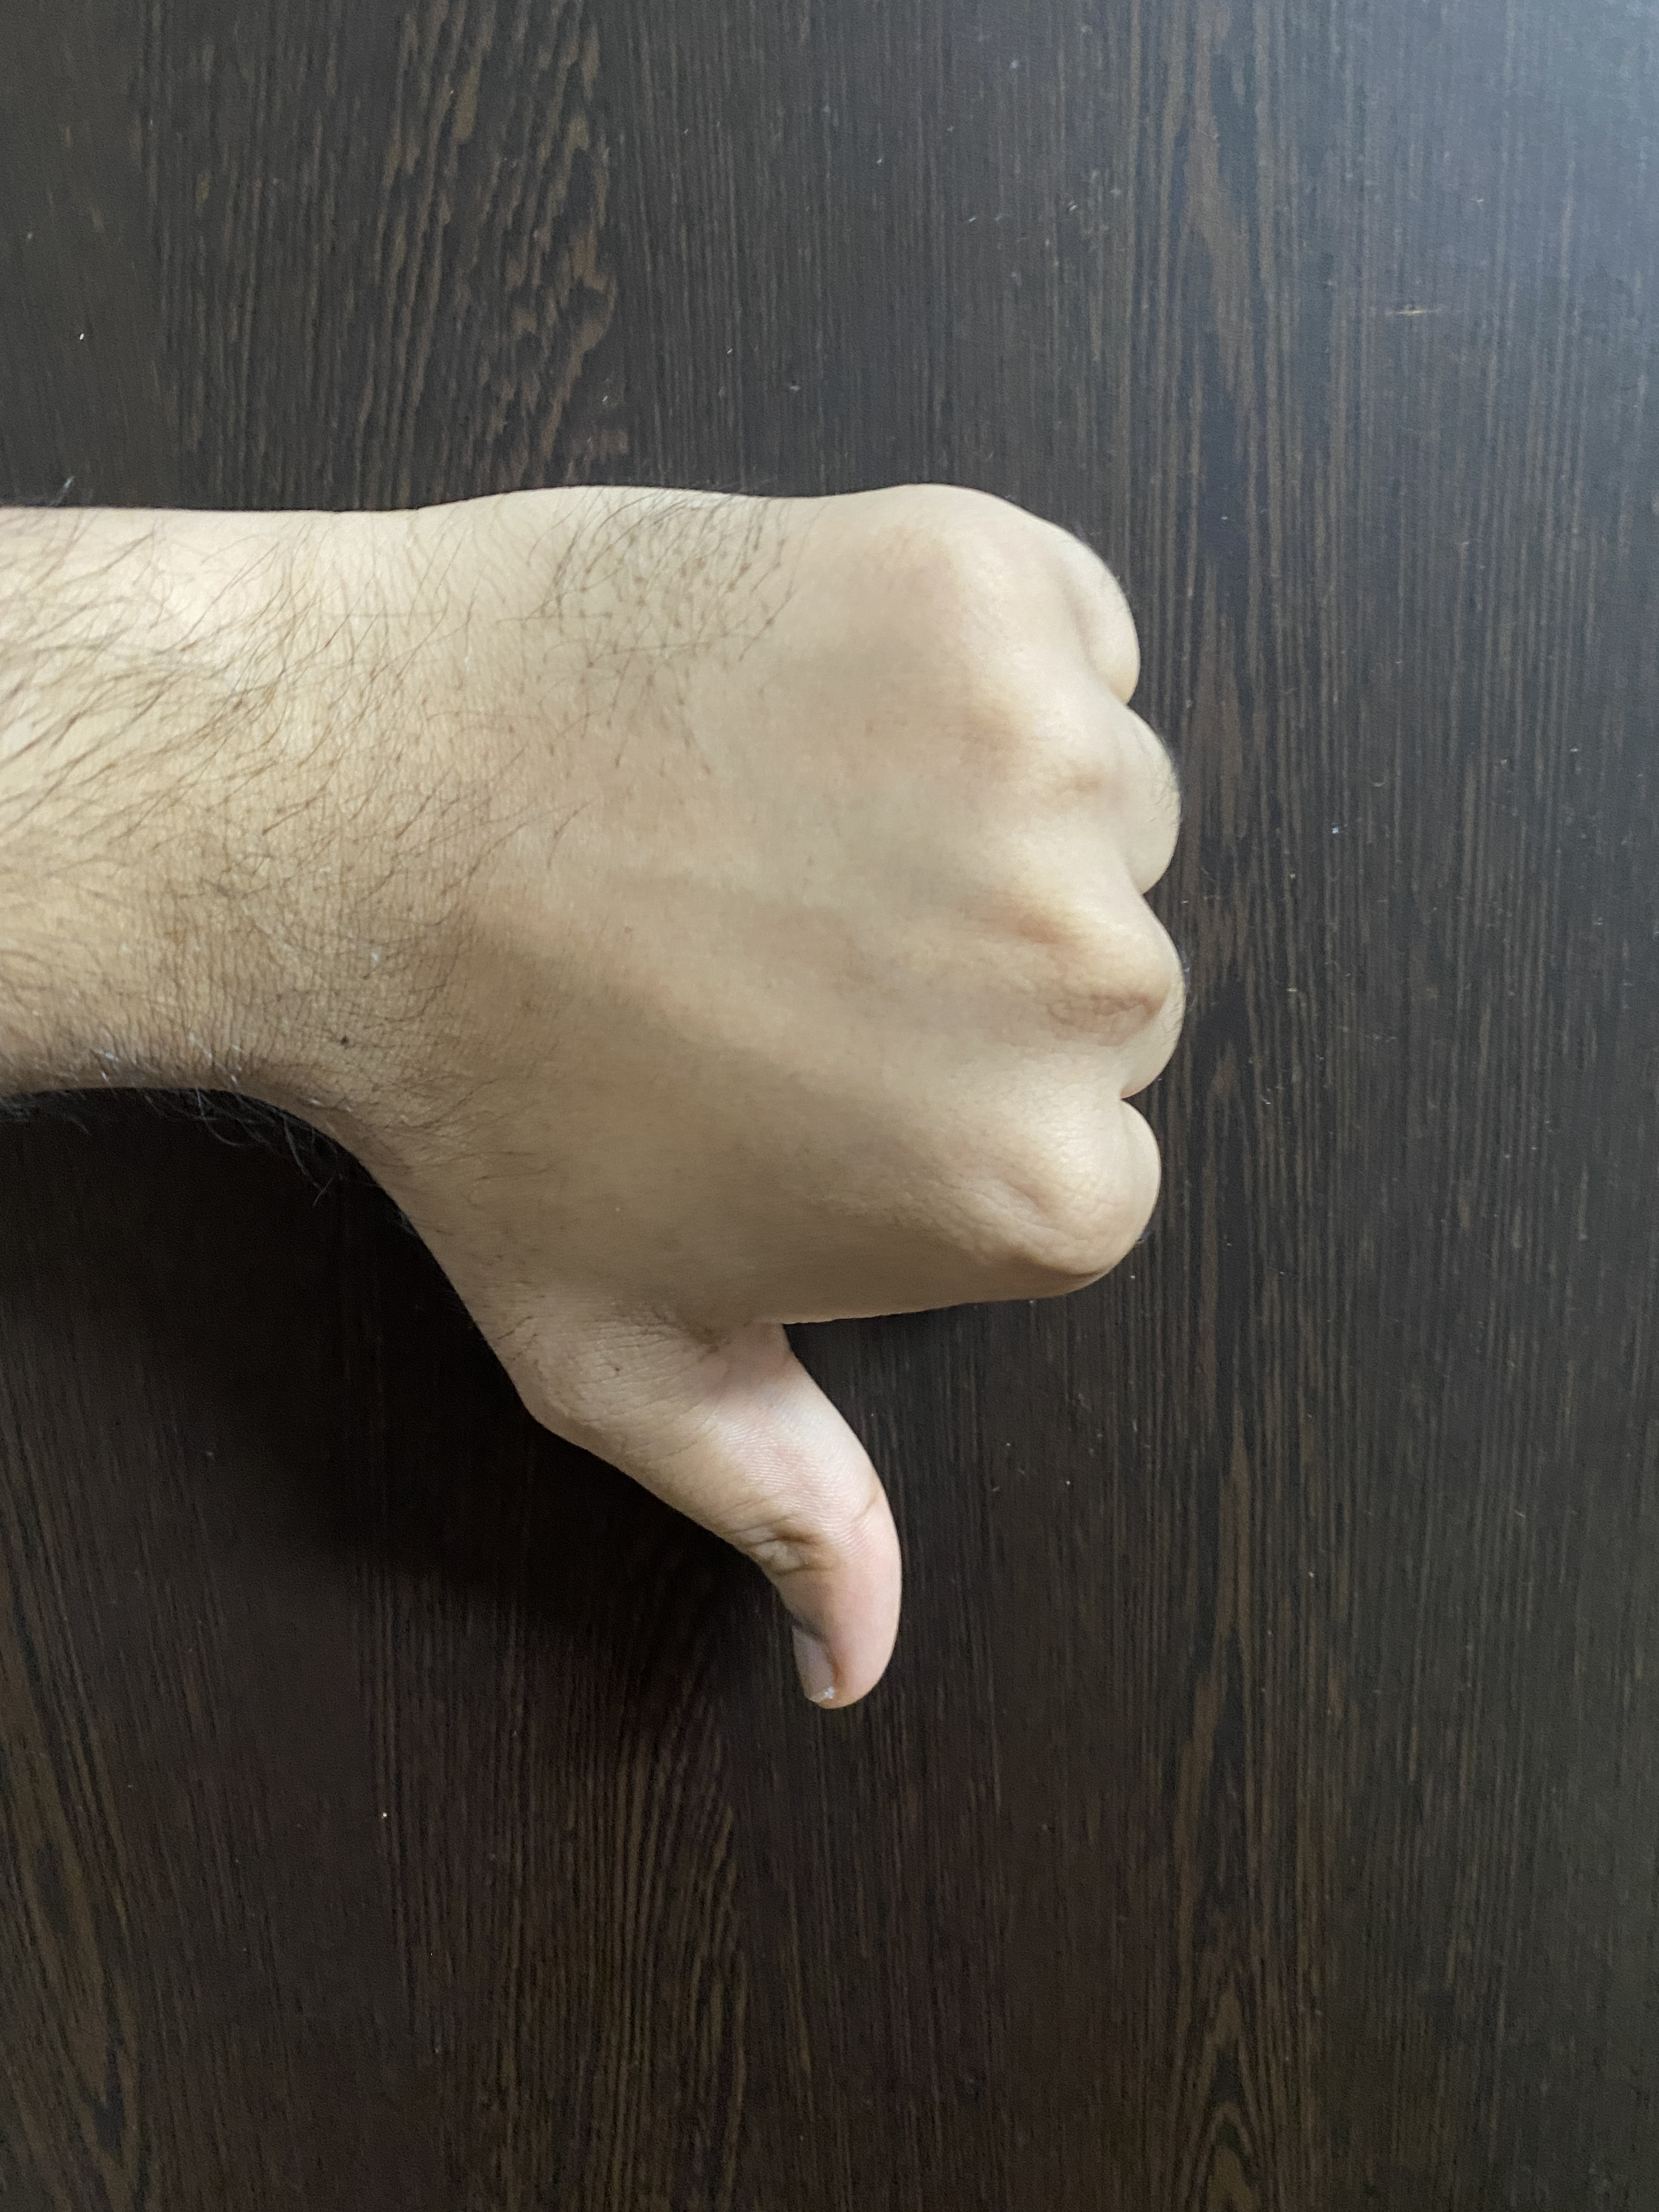down: (2, 284, 1349, 1759)
